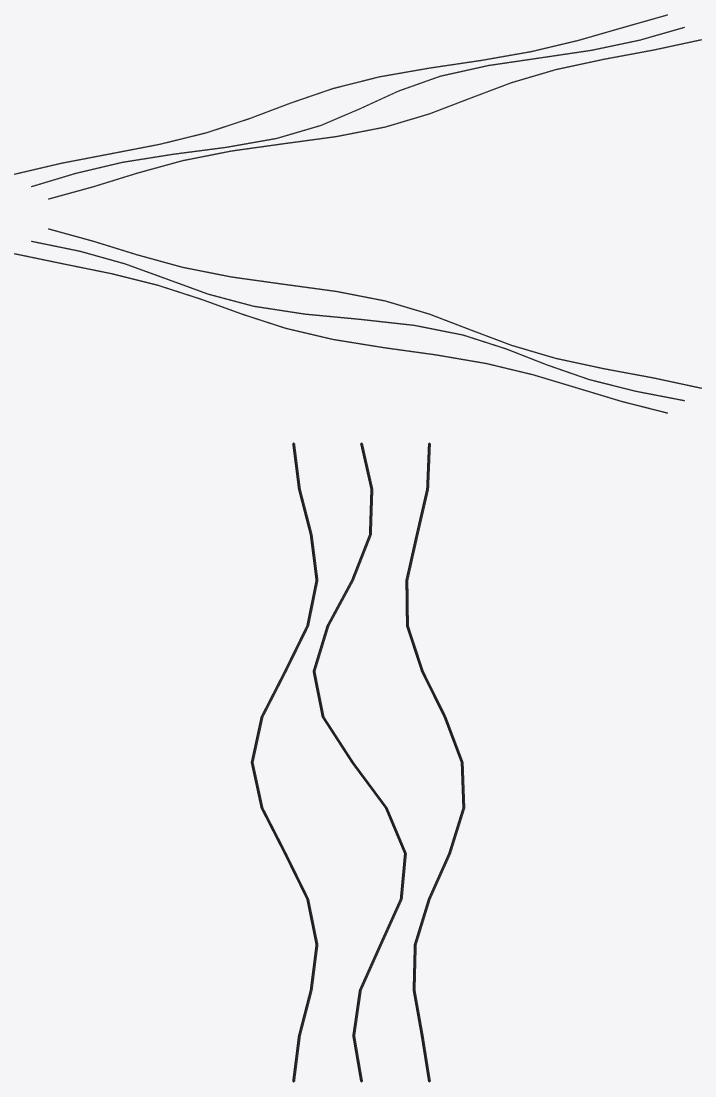
Rendered from power_wire_down.glb.
The picture shows the model from 3 angles, top to bottom: view 1: azimuth 30°, elevation 25°; view 2: azimuth 150°, elevation 25°; view 3: azimuth 270°, elevation 25°; orthographic projection. The views are drawn at different scales.
Parts seen in each view (by area): view 1: power_wire_down; view 2: power_wire_down; view 3: power_wire_down.
Part boxes in pixels (x1,y1,x2,y2): power_wire_down: [14, 14, 701, 199]; power_wire_down: [14, 228, 701, 413]; power_wire_down: [250, 442, 465, 1082].
Bounding box in the file's own units: 20 × 0.04 × 2.85.
1 material, 1 textured.
